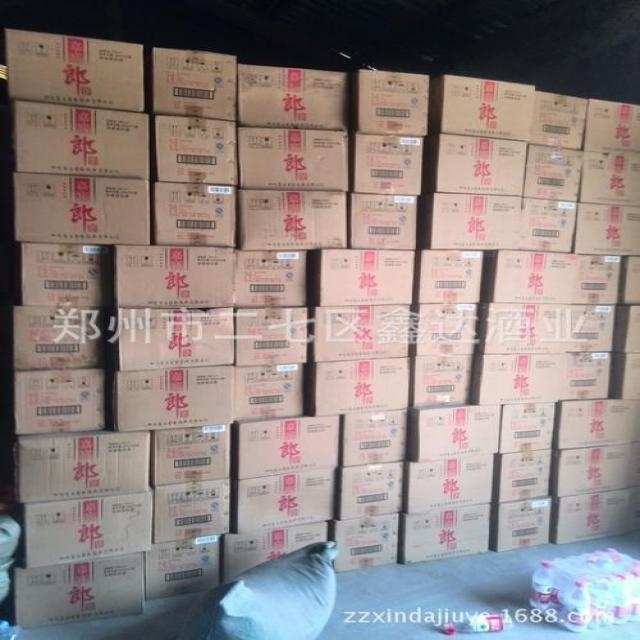box: (5, 29, 145, 112), (22, 486, 155, 570), (13, 100, 148, 179), (14, 429, 151, 504), (14, 552, 145, 629), (13, 172, 151, 245), (111, 366, 236, 433), (113, 245, 236, 309), (481, 250, 623, 305), (237, 64, 355, 130), (115, 308, 236, 372), (471, 352, 611, 406), (476, 301, 618, 354), (429, 74, 536, 142), (238, 128, 349, 192), (220, 520, 330, 584), (14, 367, 115, 436), (234, 468, 338, 533), (236, 415, 340, 480), (238, 190, 347, 250), (13, 306, 115, 370), (429, 133, 530, 197), (152, 47, 237, 121), (306, 357, 410, 417), (20, 242, 114, 307), (310, 249, 417, 306), (155, 115, 239, 186), (312, 305, 413, 363), (407, 402, 502, 462), (425, 193, 522, 249), (154, 181, 236, 247), (404, 504, 492, 565), (404, 455, 494, 514), (550, 486, 640, 545), (151, 478, 232, 543), (150, 424, 233, 487), (549, 440, 640, 497), (352, 72, 430, 137), (145, 534, 221, 600), (351, 132, 425, 196), (550, 399, 640, 450), (234, 306, 308, 367), (338, 408, 410, 468), (337, 461, 407, 520), (236, 250, 307, 308), (347, 193, 420, 249), (333, 512, 399, 573), (236, 364, 305, 422), (573, 201, 640, 257), (522, 142, 582, 201), (411, 354, 476, 408), (417, 251, 483, 304), (530, 91, 589, 150), (413, 303, 480, 354), (580, 151, 640, 206), (522, 197, 580, 253), (581, 99, 640, 153), (497, 495, 550, 553), (497, 403, 557, 454), (498, 448, 552, 504), (611, 304, 640, 354), (611, 353, 640, 399), (618, 255, 640, 305)
